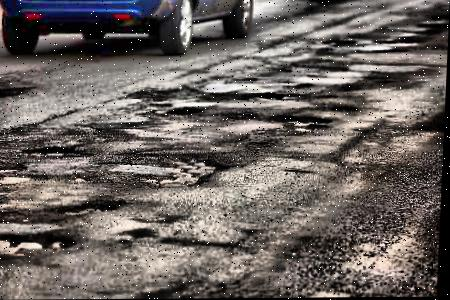pothole: (142, 156, 232, 191), (0, 225, 81, 256), (270, 114, 333, 136), (26, 143, 82, 158), (0, 163, 36, 186), (0, 84, 35, 100), (166, 103, 200, 119), (252, 92, 287, 101), (323, 38, 356, 47)
